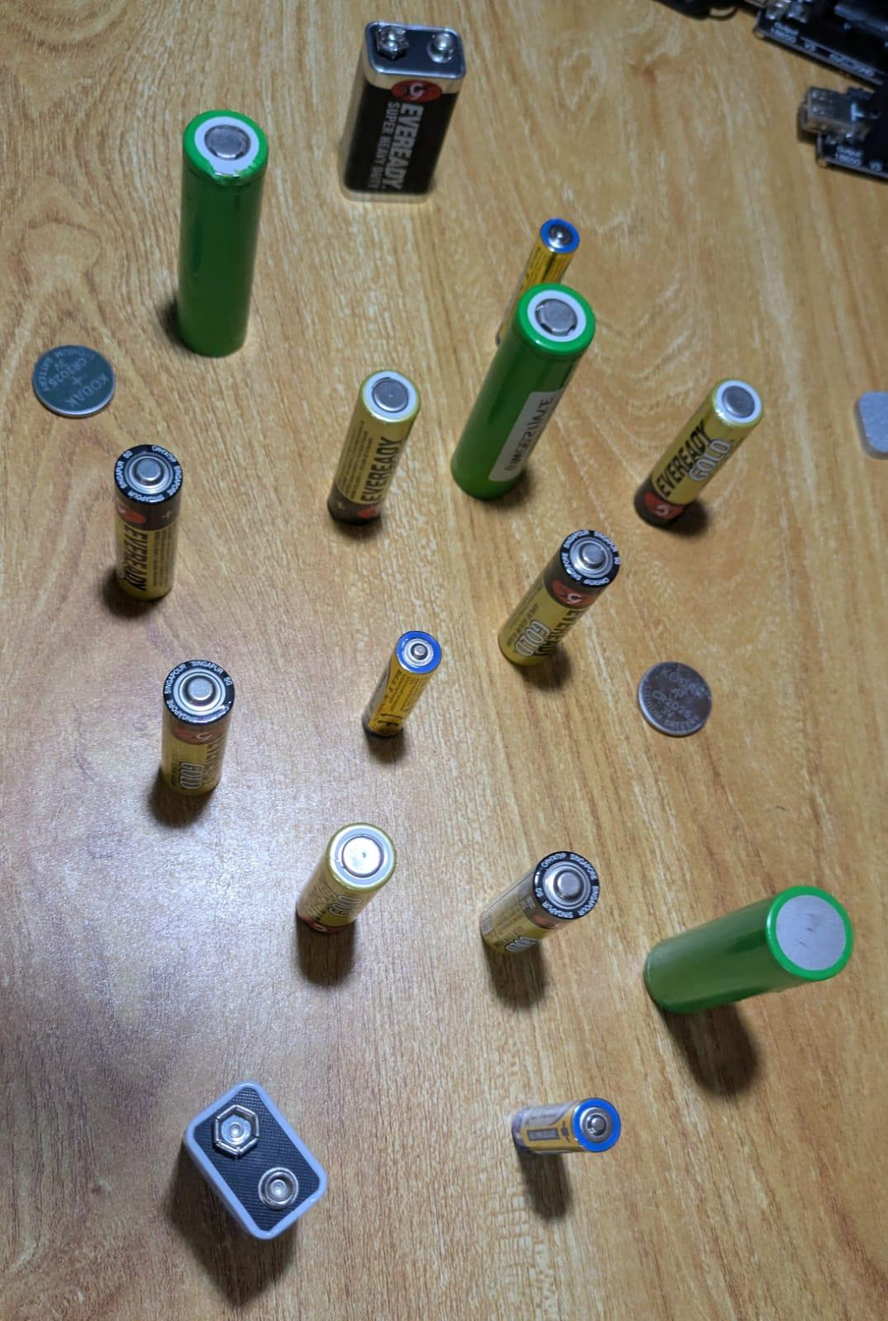9V: (179, 1081, 331, 1242), (342, 21, 471, 199)
AA: (636, 376, 762, 525), (497, 531, 619, 666), (325, 370, 421, 527), (479, 849, 601, 957), (295, 824, 395, 938), (111, 443, 184, 599), (158, 659, 235, 795)
AAA: (495, 218, 581, 352), (359, 632, 443, 740), (510, 1098, 621, 1155)
COIN: (28, 343, 117, 420), (636, 662, 714, 737)
